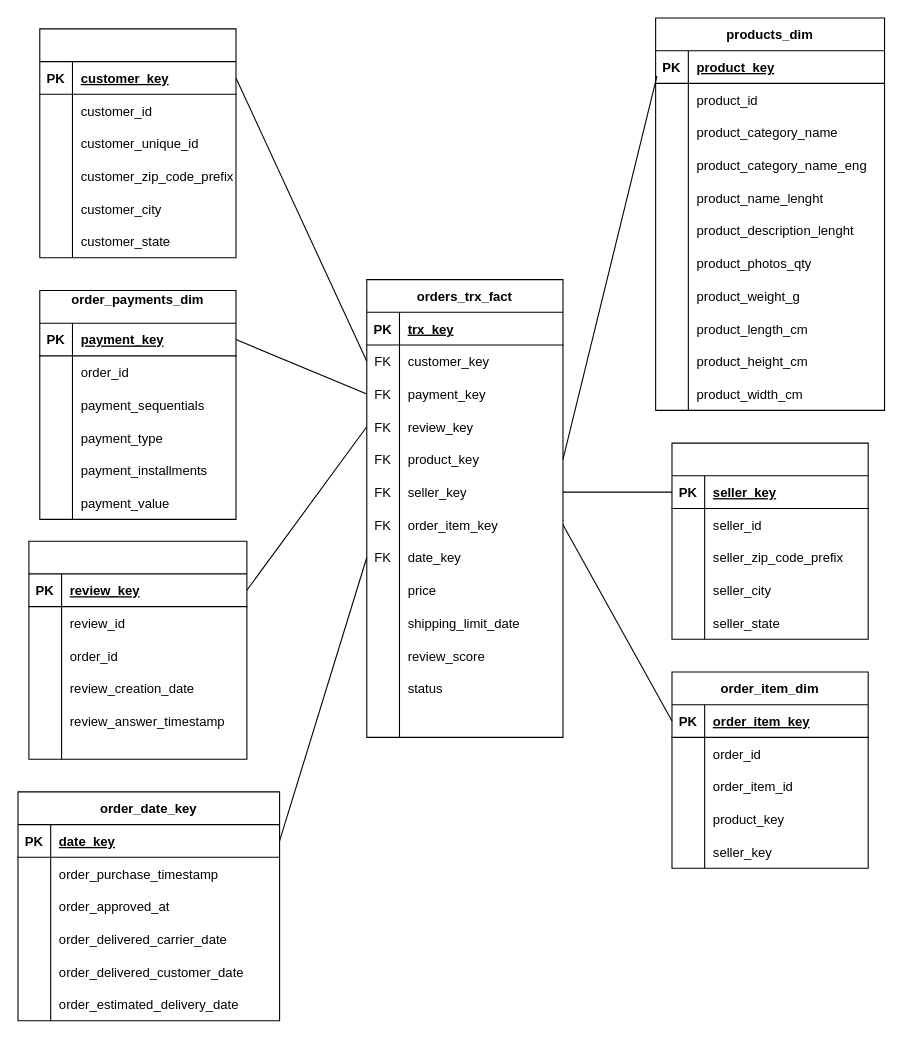
The diagram is 903 pixels wide and 1039 high, and some of its shapes have lost their labels. Each missing label, with the box of its shape:
customer_dim: (39, 28, 236, 258)
order_review_dim: (28, 540, 247, 759)
seller_dim: (671, 442, 868, 639)
